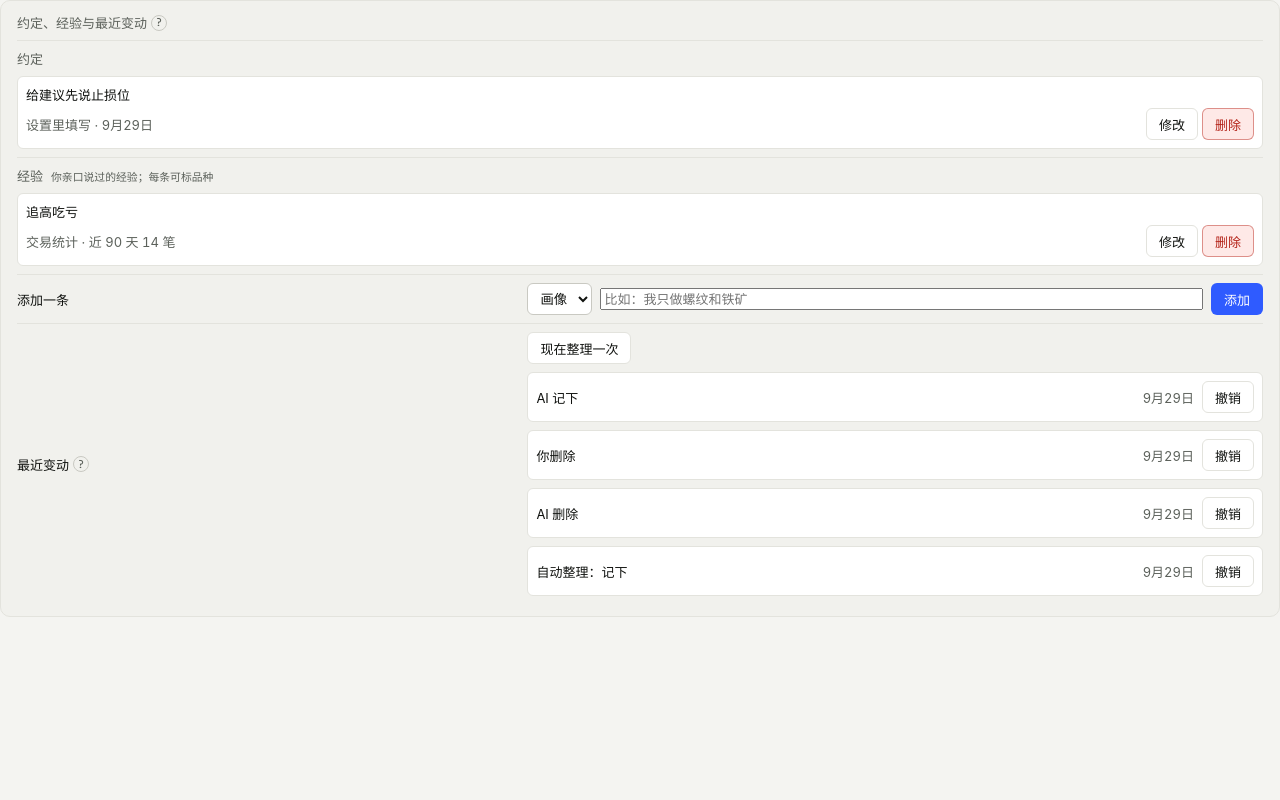
Test: adding posts to the memory route and reloads; a refusal shows its detail
The image size is (1280, 800).
Check: the text "给建议先说止损位" is shown, box top-left (26, 87), bottom-right (130, 103)
Type "我不做夜盘" into the field named "记忆内容" at (902, 299), box top-left (600, 288), bottom-right (1203, 310)
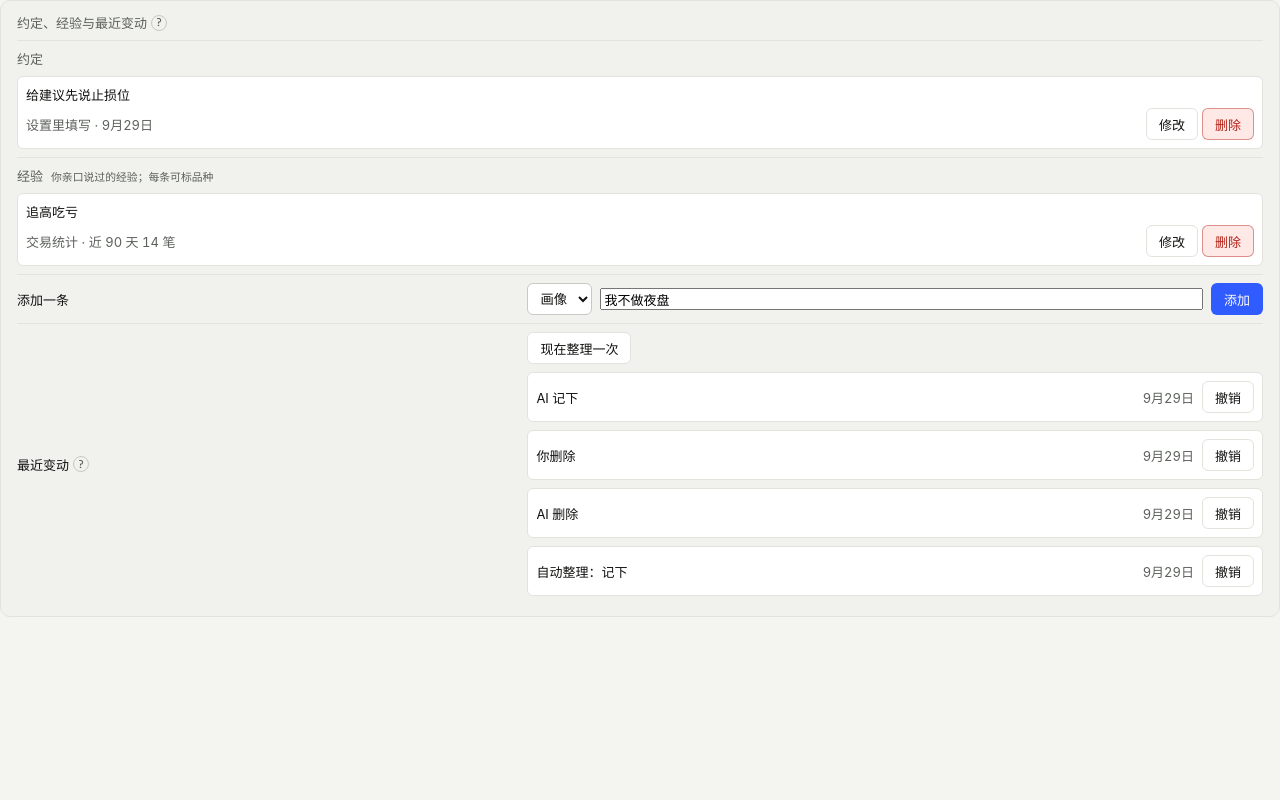
Select "约定" in the dropdown named "记忆层级" at (560, 299), box top-left (527, 283), bottom-right (592, 315)
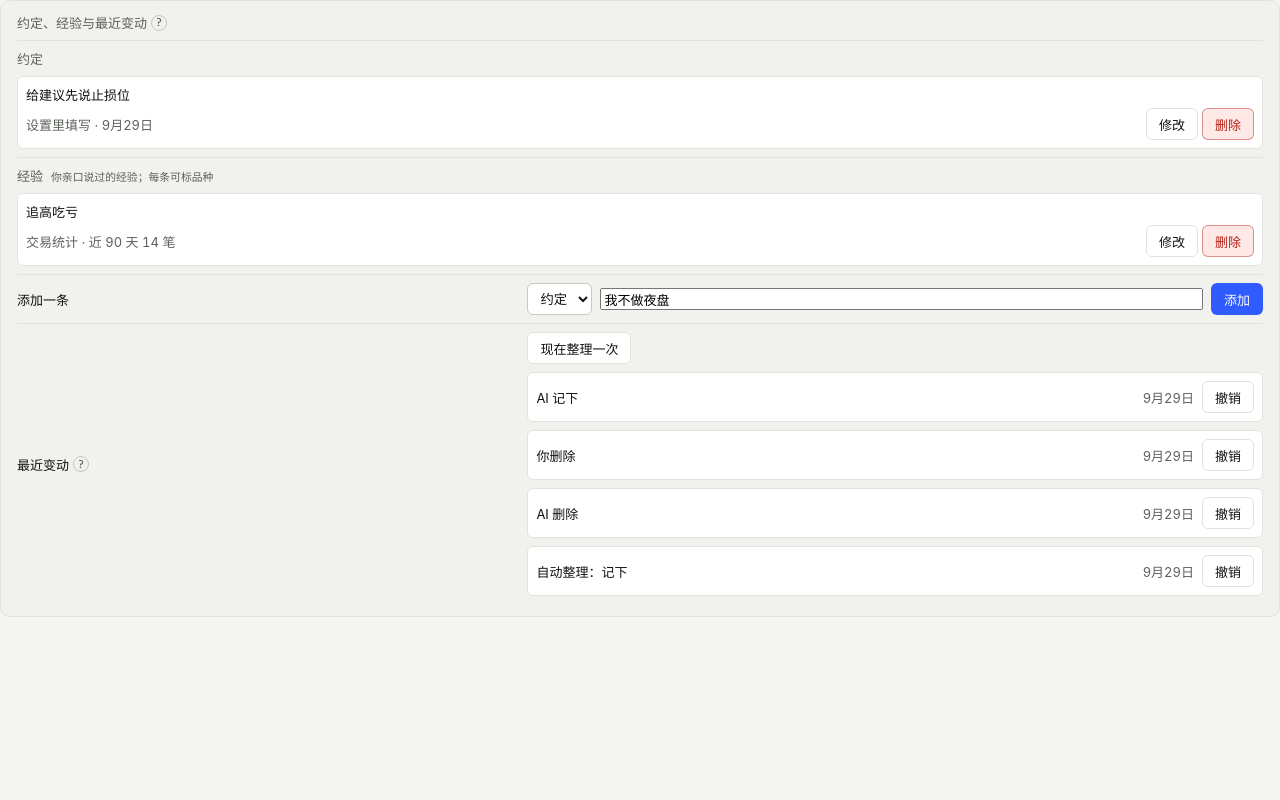
Click the button "添加" at (1237, 299), box top-left (1211, 283), bottom-right (1263, 315)
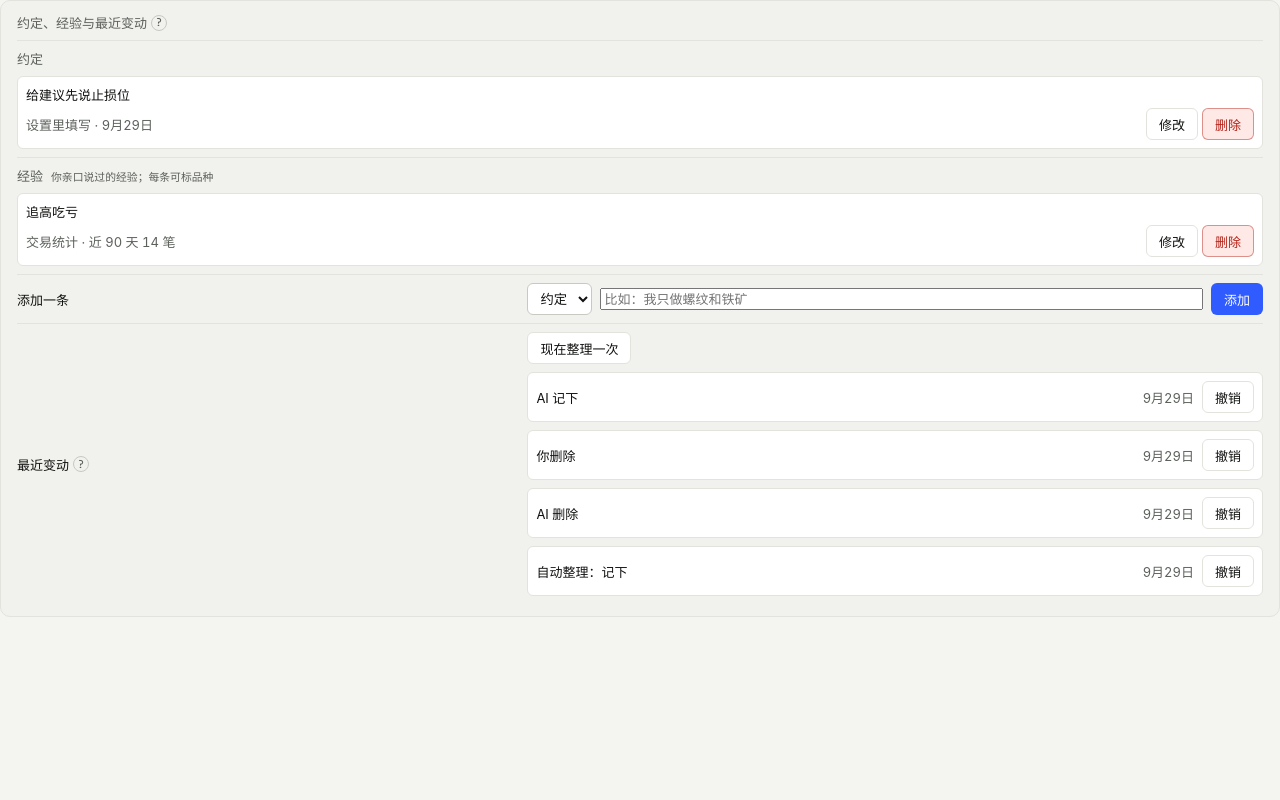
Type "再记一条" into the field named "记忆内容" at (902, 299), box top-left (600, 288), bottom-right (1203, 310)
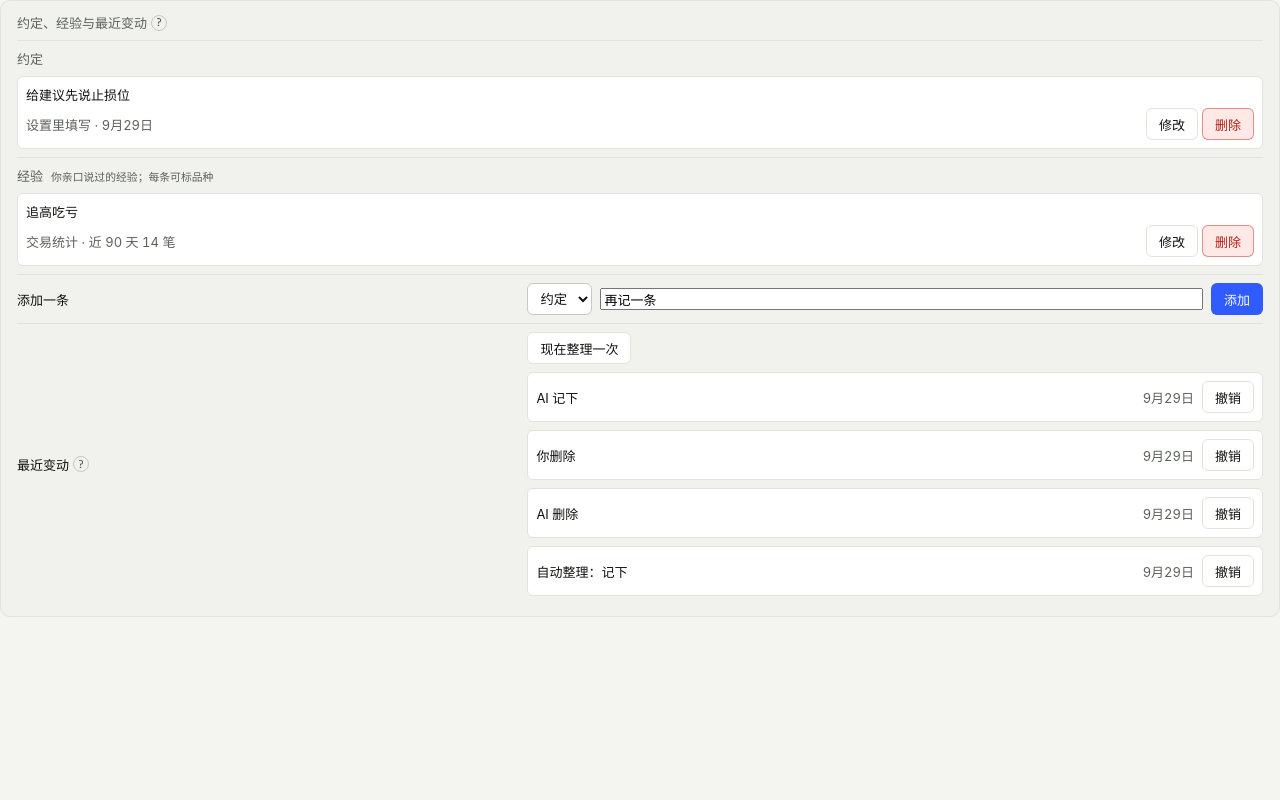
Click the button "添加" at (1237, 299), box top-left (1211, 283), bottom-right (1263, 315)
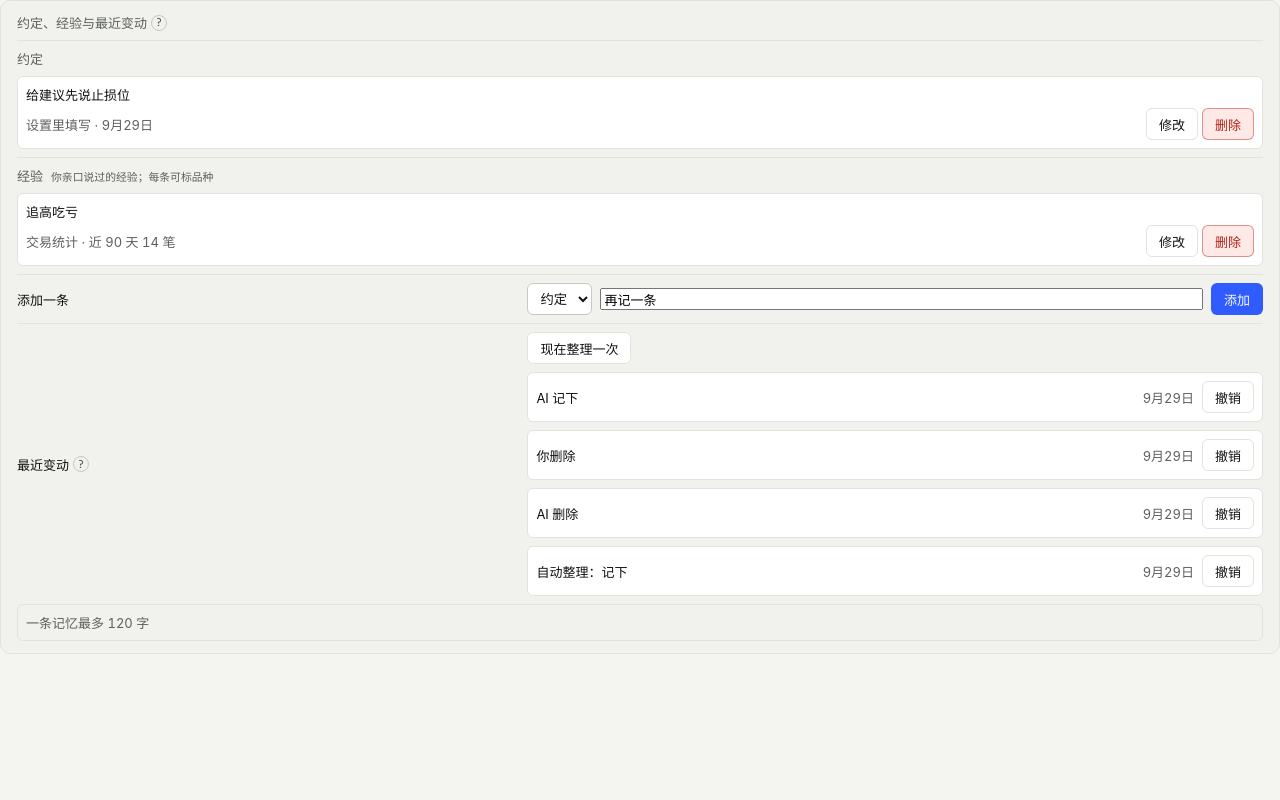
Check: the message reads "一条记忆最多 120 字", box top-left (26, 615), bottom-right (149, 631)
